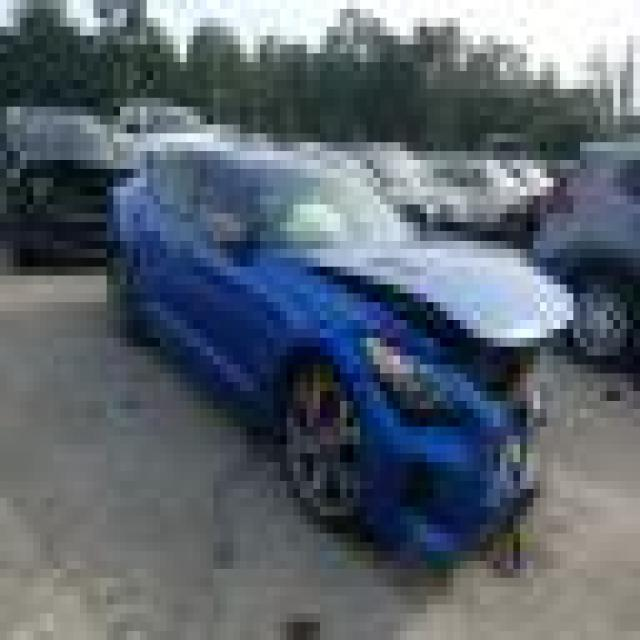severe: (310, 237, 585, 524)
